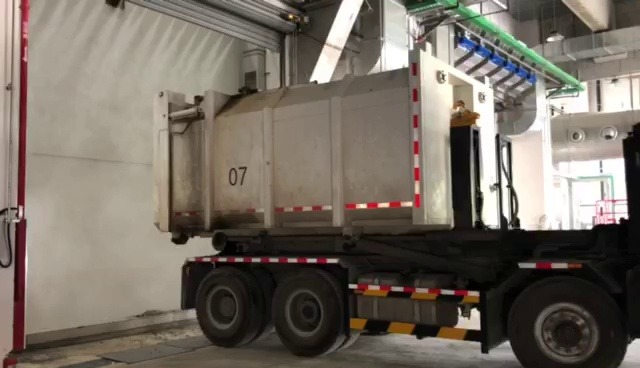dust: (37, 115, 159, 309)
truck: (144, 39, 639, 368)
